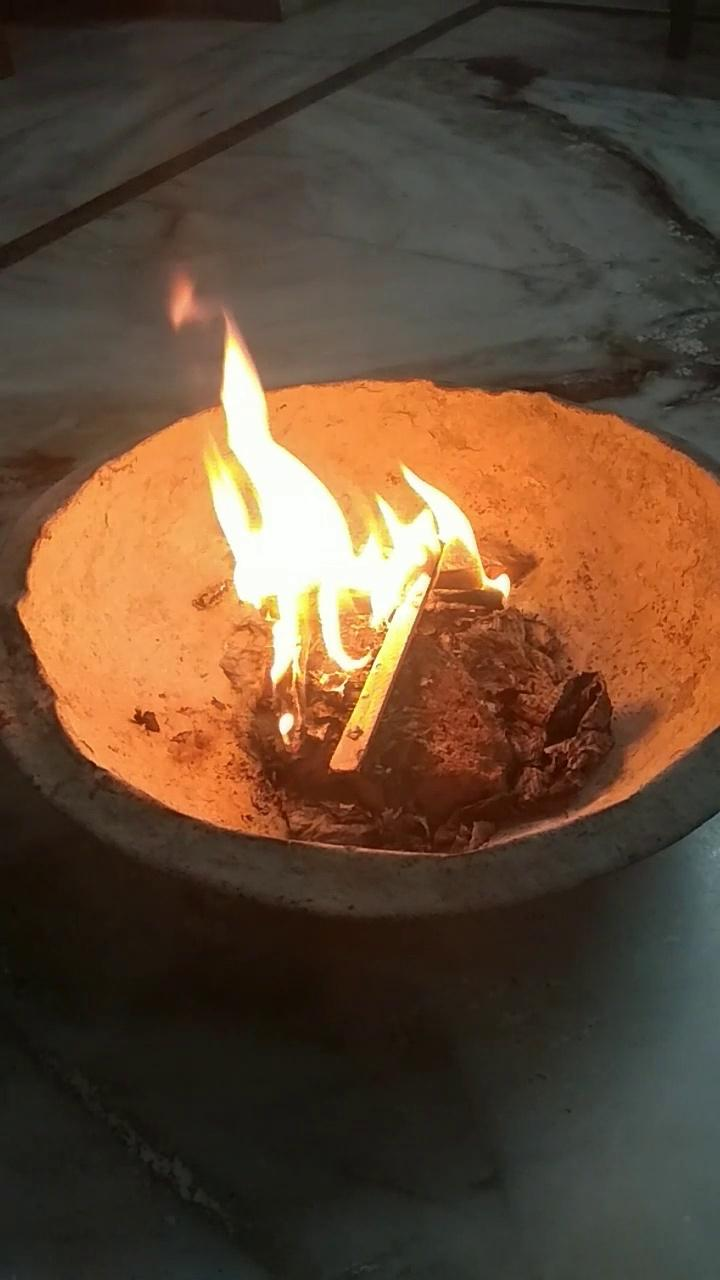fire: (190, 290, 533, 683)
